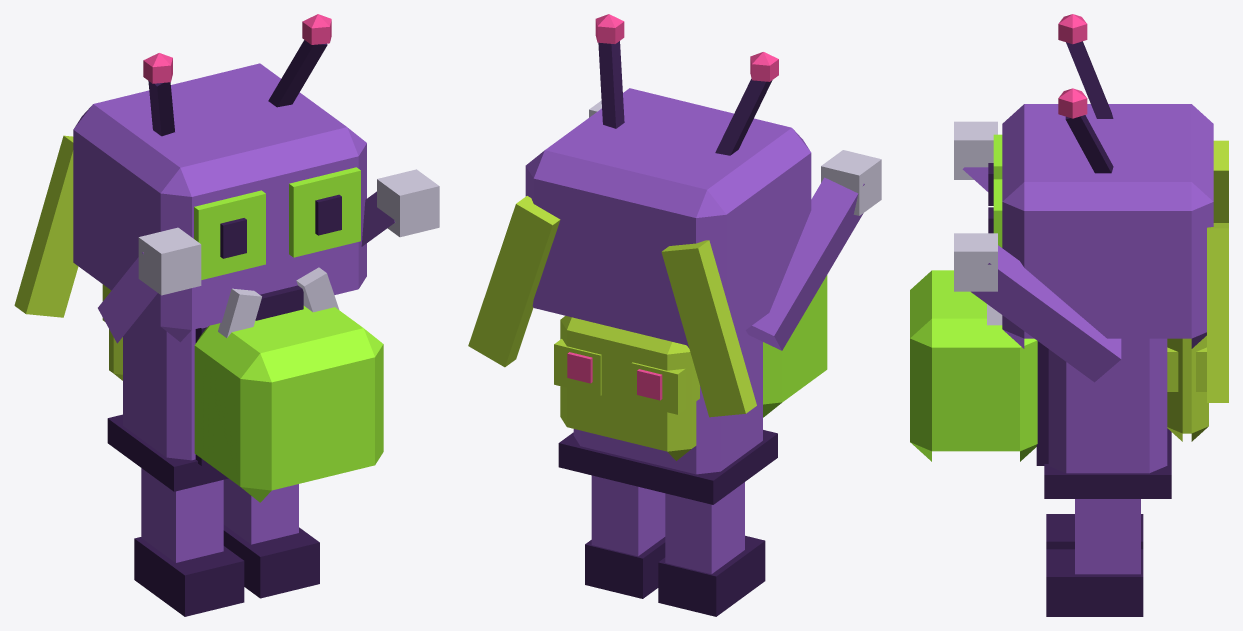
File: blinder_r11.glb
The picture shows the model from 3 angles, left to right: view 1: azimuth 30°, elevation 25°; view 2: azimuth 150°, elevation 25°; view 3: azimuth 270°, elevation 25°; orthographic projection. The views are drawn at different scales.
Visible parts, largest first — view 1: blinder_r11_mesh; view 2: blinder_r11_mesh; view 3: blinder_r11_mesh.
Boxes of the visible parts, <box> form: blinder_r11_mesh: <box>14,14,439,616</box>; blinder_r11_mesh: <box>468,14,881,616</box>; blinder_r11_mesh: <box>910,14,1228,616</box>.
Bounding box in the file's own units: 0.8582 × 1.6 × 0.8657.
Materials: 1 (1 with a texture image).
